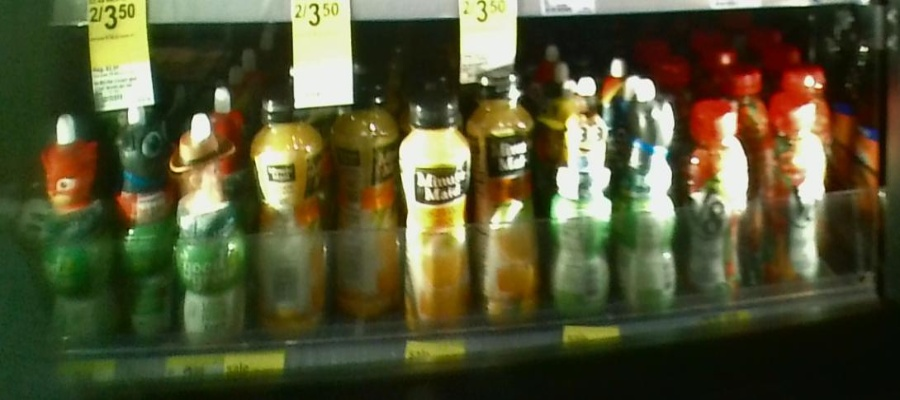bottle: (39, 109, 113, 349), (249, 86, 321, 331), (325, 84, 401, 314), (402, 97, 474, 328), (174, 114, 245, 348), (544, 68, 610, 309), (475, 74, 540, 316), (681, 95, 754, 303), (616, 72, 676, 303), (115, 107, 172, 344), (760, 89, 825, 296)
